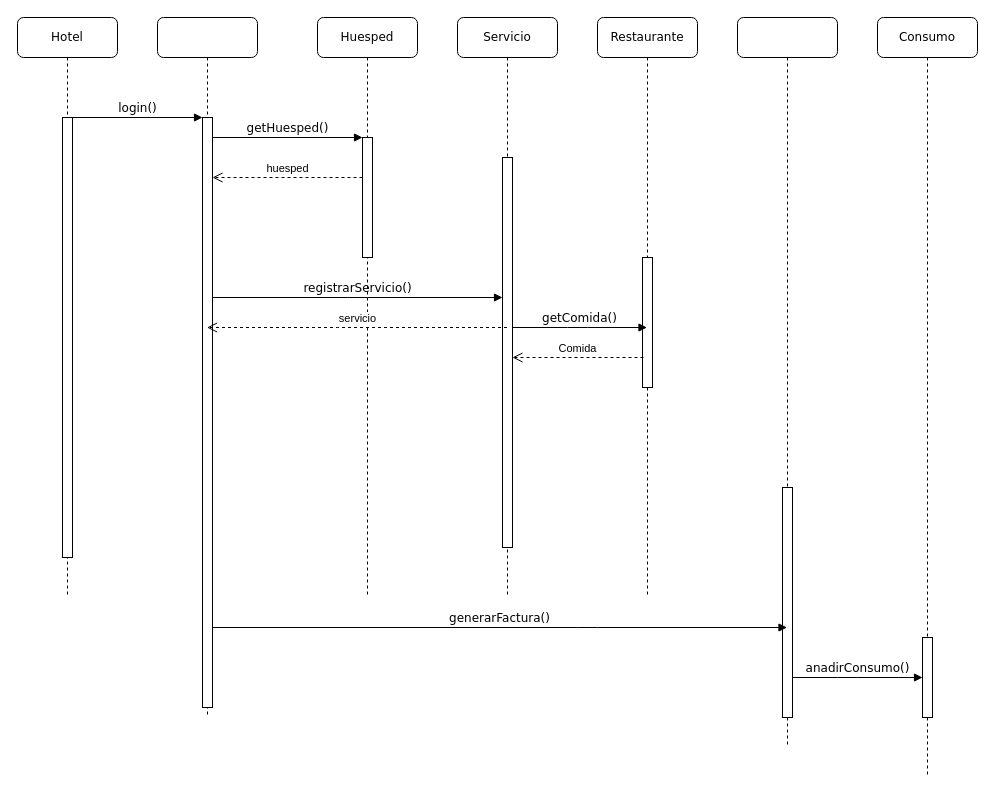
The diagram is 995 pixels wide and 795 high, and some of its shapes have lost their labels. The box of each missing label's shape, as (x1, y1, x2, y2) in pixels:
Factura: (736, 16, 838, 748)
Staff: (156, 16, 258, 718)
